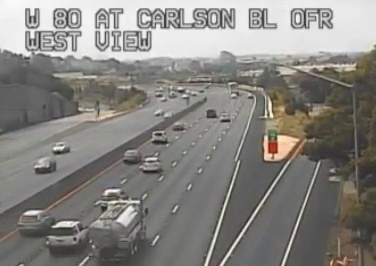car: (49, 221, 87, 247), (17, 209, 53, 234), (141, 158, 159, 171), (123, 150, 140, 163), (151, 131, 167, 144)
tank-truck: (87, 198, 145, 261)
